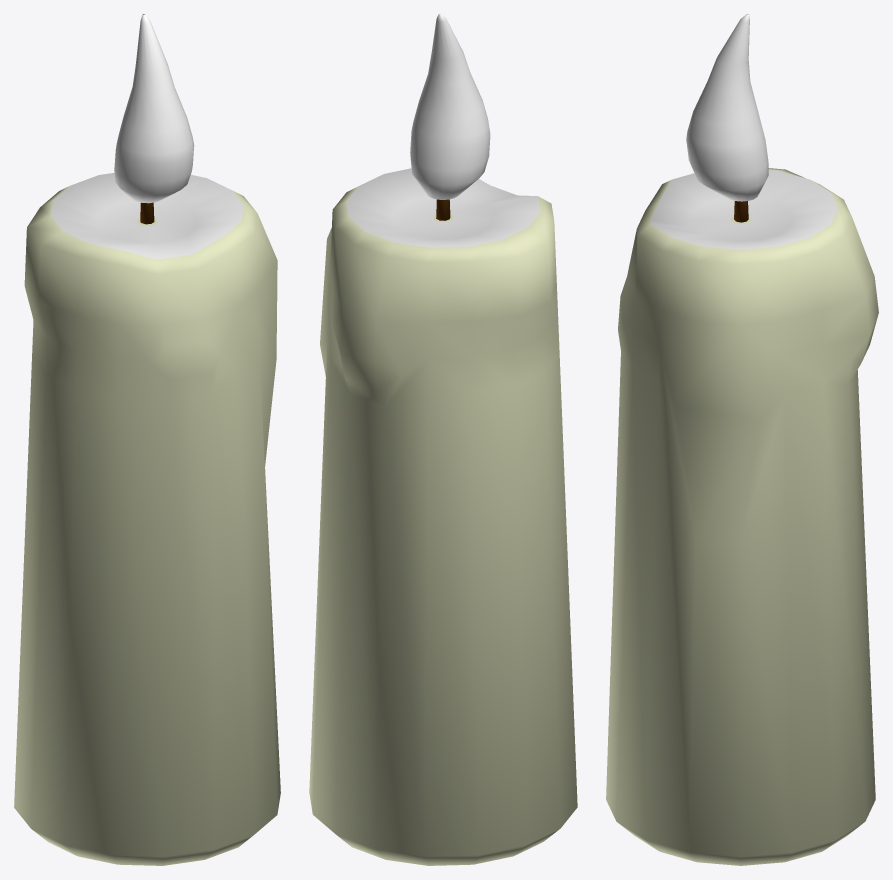
File: candle_flame.glb
The picture shows the model from 3 angles, left to right: view 1: azimuth 30°, elevation 25°; view 2: azimuth 150°, elevation 25°; view 3: azimuth 270°, elevation 25°; orthographic projection.
Parts seen in each view (by area): view 1: CandleBody_0, Flame_3; view 2: CandleBody_0, Flame_3; view 3: CandleBody_0, Flame_3.
Part boxes in pixels (bbox=[...]): CandleBody_0: bbox=[14, 173, 280, 865]; Flame_3: bbox=[114, 14, 194, 203]; CandleBody_0: bbox=[309, 168, 577, 865]; Flame_3: bbox=[410, 14, 490, 199]; CandleBody_0: bbox=[606, 168, 878, 865]; Flame_3: bbox=[686, 14, 768, 201].
Size of the model in its own units: 2.42 by 7.94 by 2.45.
